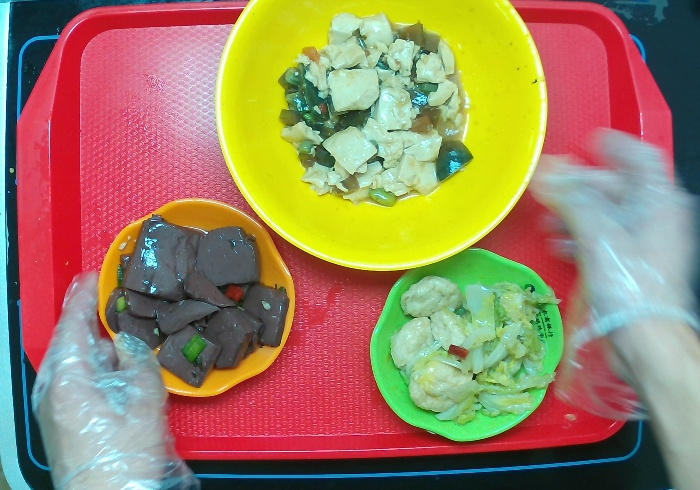YKMZ-Huang_Se_Tang_Wan: (213, 1, 550, 275)
YKMZ-Ju_Se_Ao_Bian_Wan: (96, 198, 297, 396)
YKMZ-Lv_Se_Ao_Bian_Wan: (364, 244, 565, 446)
